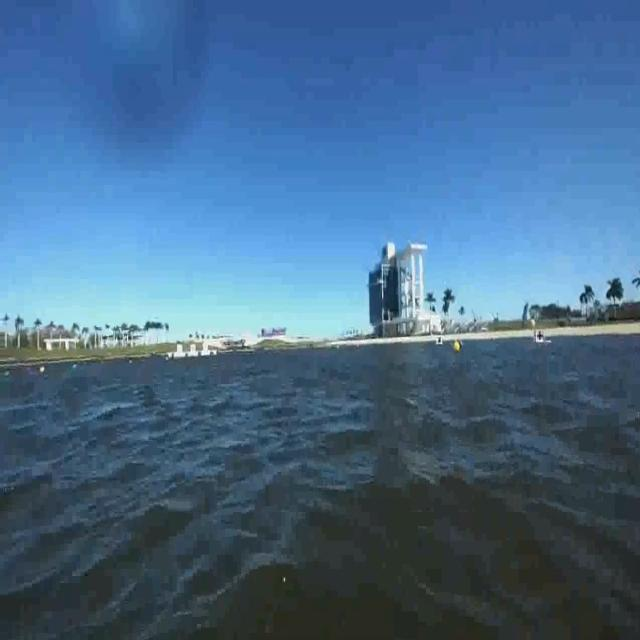yellow-buoy: (454, 340, 462, 354)
